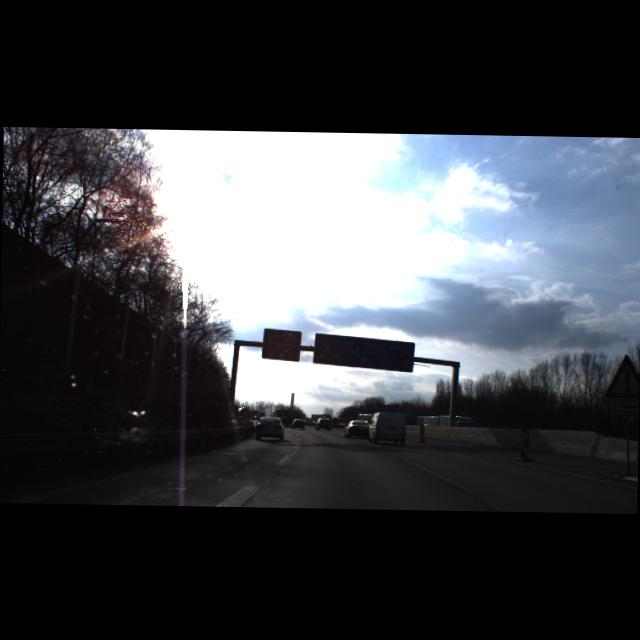danger: (602, 354, 640, 399)
